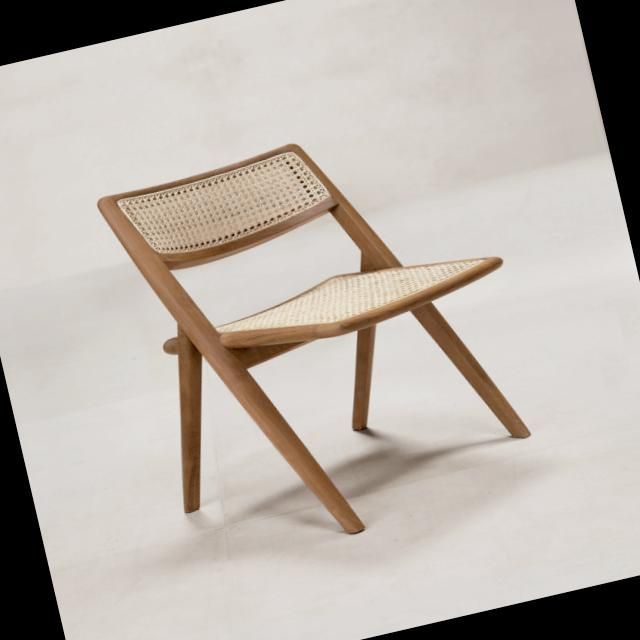obstacle: (0, 51, 589, 636)
